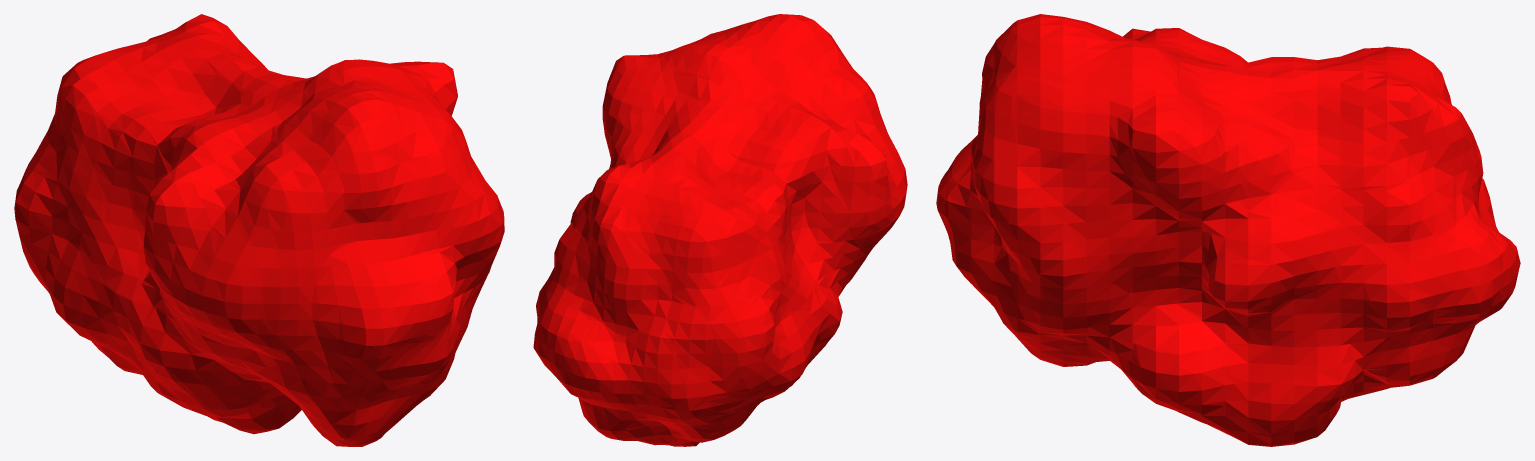
Rendered from gpmI_coarse.dae.
The picture shows the model from 3 angles, left to right: view 1: azimuth 30°, elevation 25°; view 2: azimuth 150°, elevation 25°; view 3: azimuth 270°, elevation 25°; orthographic projection. The views are drawn at different scales.
Parts seen in each view (by area): view 1: gpmI; view 2: gpmI; view 3: gpmI.
Part boxes in pixels (x1,y1,x2,y2): gpmI: [14, 14, 504, 446]; gpmI: [533, 14, 907, 446]; gpmI: [936, 14, 1520, 446].
Bounding box in the file's own units: 47.25 × 58.34 × 77.63.
